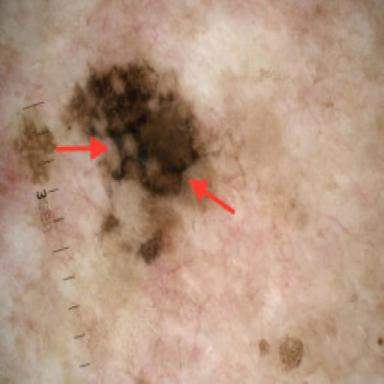Melanoma: (63, 58, 249, 263)
